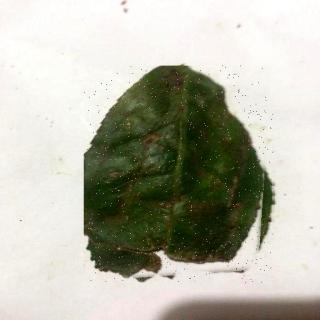Red Leaf Spot: (85, 67, 275, 284)
